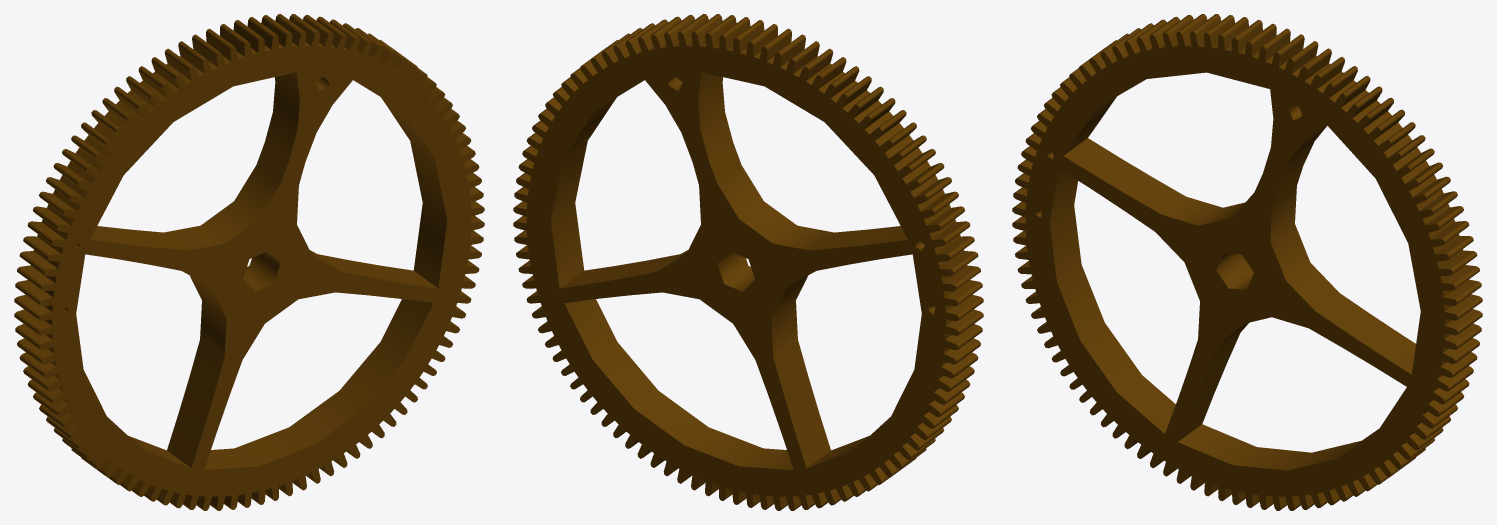
File: Couronne barillet_Heures.obj
3 renders of one model, left to right at view 1: azimuth 30°, elevation 25°; view 2: azimuth 150°, elevation 25°; view 3: azimuth 330°, elevation 25°, orthographic.
Visible parts, largest first — view 1: Face_2, Face_403, Face_407, Face_409, Face_398, Face_412, Face_397, Face_404, Face_410, Face_395, Face_408; view 2: Face_1, Face_403, Face_407, Face_409, Face_398, Face_412, Face_397, Face_404, Face_410, Face_395, Face_408; view 3: Face_2, Face_399, Face_405, Face_403, Face_410, Face_404, Face_400, Face_409, Face_395, Face_413, Face_411.
Part boxes in pixels (x1,y1,x2,y2): Face_2: (39,32,484,510); Face_403: (204,299,433,470); Face_407: (381,97,447,288); Face_409: (164,165,280,250); Face_398: (167,340,224,468); Face_412: (265,72,299,159); Face_397: (190,275,226,357); Face_404: (317,254,437,288); Face_410: (90,226,187,250); Face_395: (243,251,280,291); Face_408: (256,142,289,182); Face_1: (513,32,958,510); Face_403: (564,299,793,470); Face_407: (550,97,616,288); Face_409: (717,165,833,250); Face_398: (773,340,830,468); Face_412: (698,72,732,159); Face_397: (771,275,807,357); Face_404: (560,254,680,288); Face_410: (810,226,907,250); Face_395: (717,251,754,291); Face_408: (708,142,741,182); Face_2: (1012,32,1457,510); Face_399: (1049,168,1175,433); Face_405: (1270,186,1339,310); Face_403: (1178,424,1379,470); Face_410: (1064,138,1185,214); Face_404: (1315,293,1415,374); Face_400: (1178,333,1240,441); Face_409: (1162,196,1244,225); Face_395: (1216,253,1253,289); Face_413: (1279,125,1327,182); Face_411: (1064,96,1116,155).
Size of the model in its own units: 0.0816 by 0.0817 by 0.0078.
